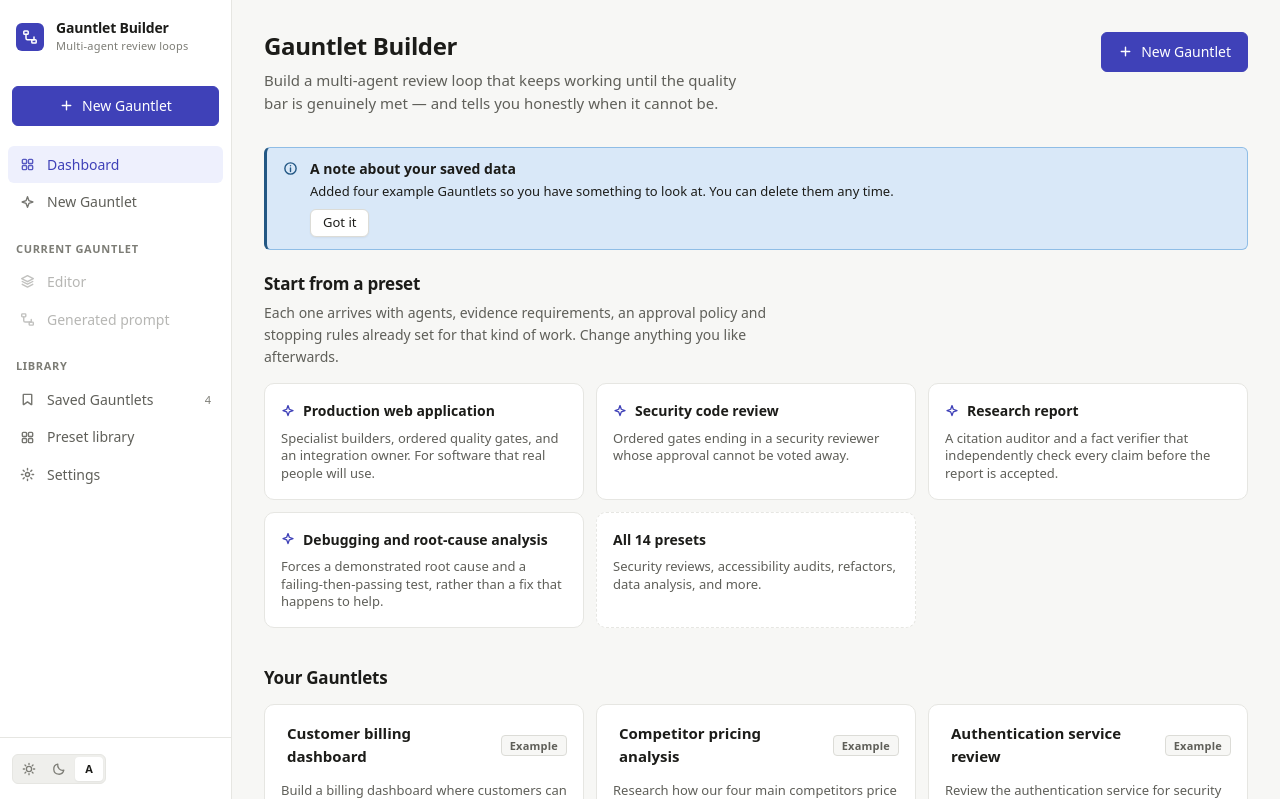
Test: saved Gauntlets › searches by name
The image size is (1280, 799).
Click the button "Saved Gauntlets 4" at (116, 400), box [8,381,223,418]
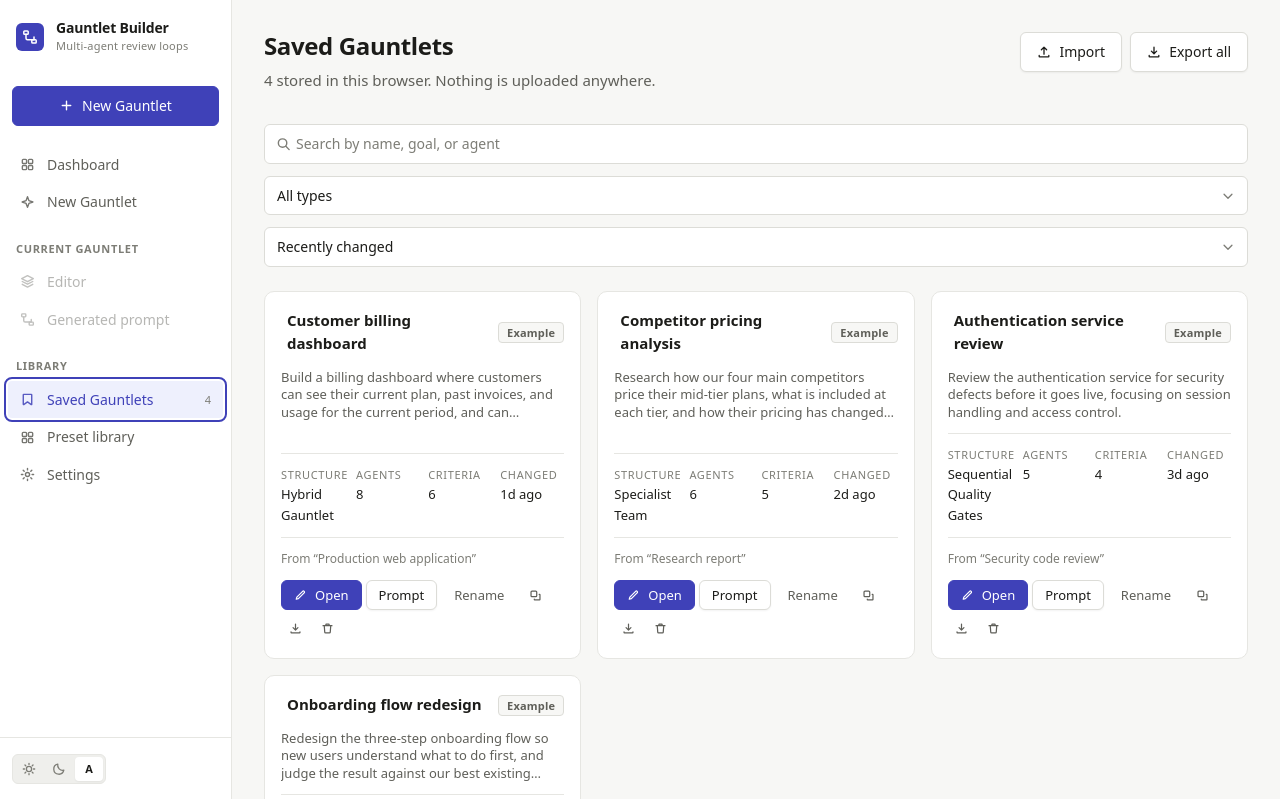
Type "billing" into the search field named "Search saved Gauntlets" at (756, 144), box [264,124,1248,164]
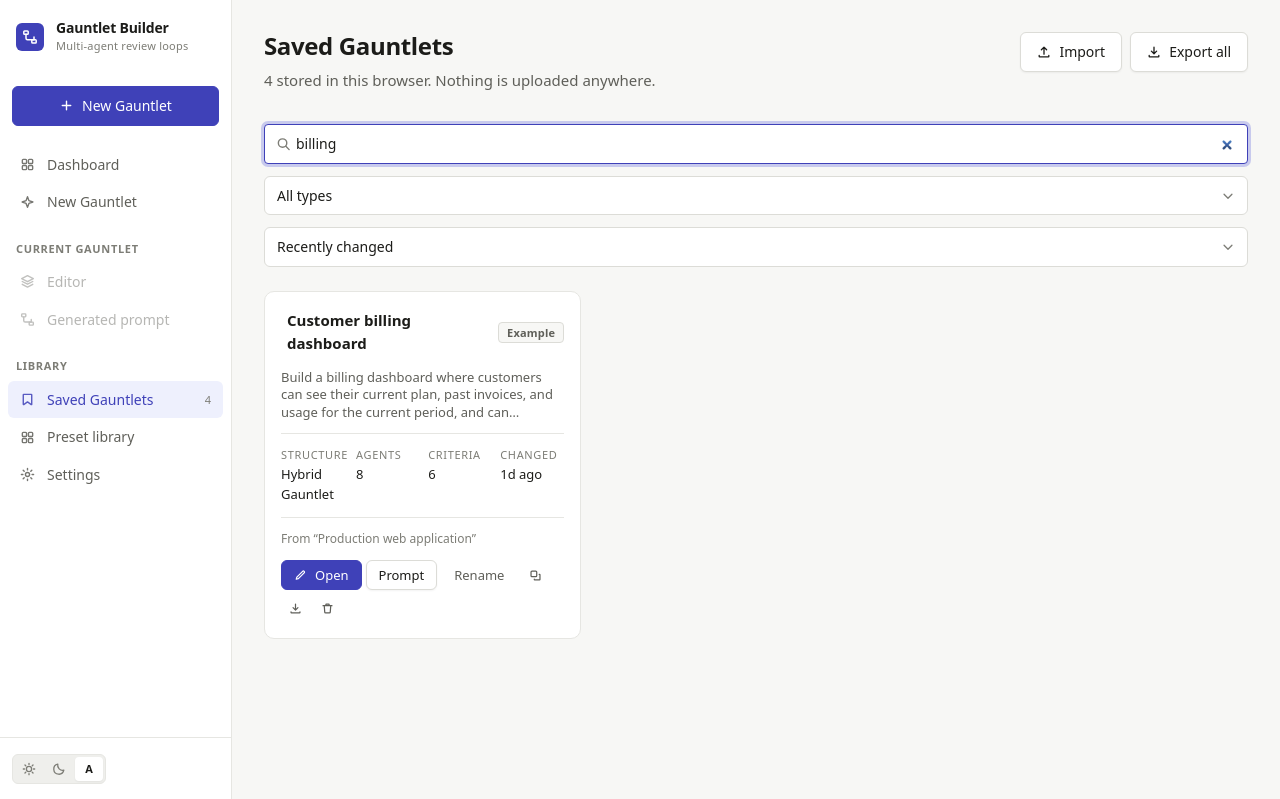
Check: the button "Customer billing dashboard" is shown, box [281,308,490,357]
Check: the button "Competitor pricing analysis" is gone
